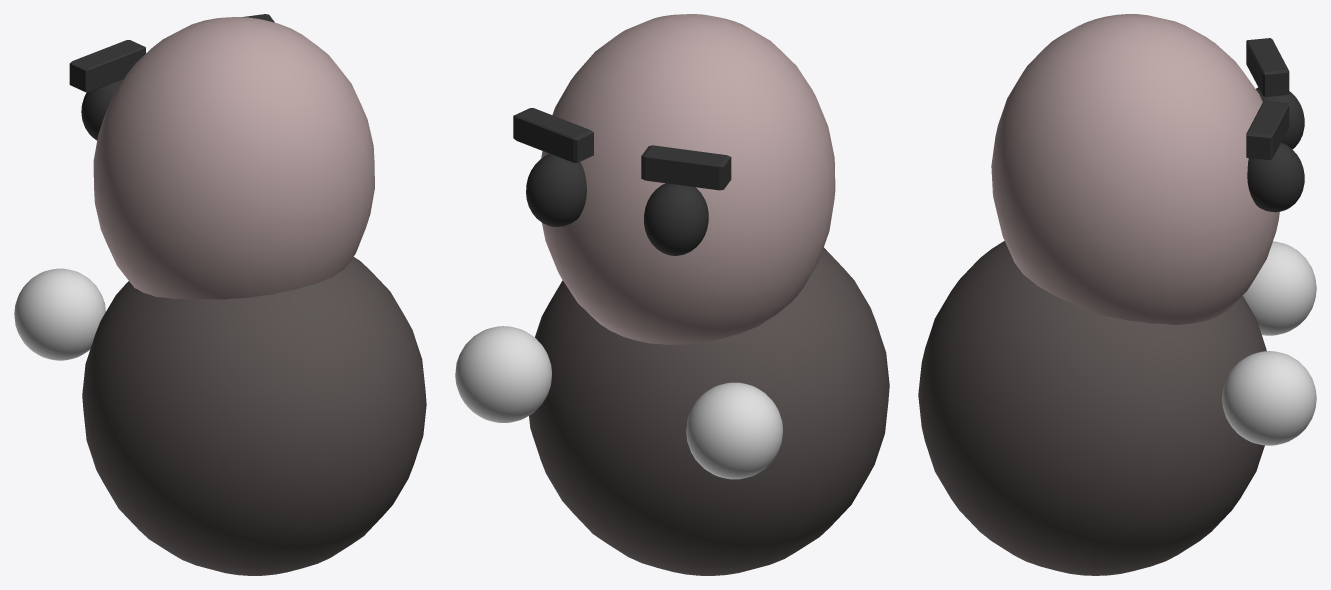
The model's file is Peoples.fbx.
3 views of the same model, side by side, from view 1: azimuth 30°, elevation 25°; view 2: azimuth 150°, elevation 25°; view 3: azimuth 270°, elevation 25° (orthographic). The views are drawn at different scales.
Parts seen in each view (by area): view 1: Sphere.006, Sphere.005, Sphere.007, Cube.003, Sphere.008; view 2: Sphere.006, Sphere.005, Sphere.007, Sphere.008, Cube.003; view 3: Sphere.006, Sphere.005, Sphere.007, Cube.003, Sphere.008.
Part boxes in pixels (box(x1,y1,x2,y2)): Sphere.006: box(82, 257, 426, 575); Sphere.005: box(93, 17, 374, 299); Sphere.007: box(14, 268, 105, 360); Cube.003: box(69, 14, 274, 92); Sphere.008: box(81, 78, 123, 140); Sphere.006: box(529, 247, 889, 575); Sphere.005: box(541, 14, 835, 344); Sphere.007: box(455, 326, 782, 479); Sphere.008: box(526, 154, 708, 255); Cube.003: box(513, 108, 731, 190); Sphere.006: box(918, 241, 1266, 575); Sphere.005: box(991, 14, 1279, 324); Sphere.007: box(1222, 241, 1316, 445); Cube.003: box(1246, 38, 1289, 160); Sphere.008: box(1247, 87, 1304, 212).
Bounding box in the file's own units: 117 × 195 × 132.
